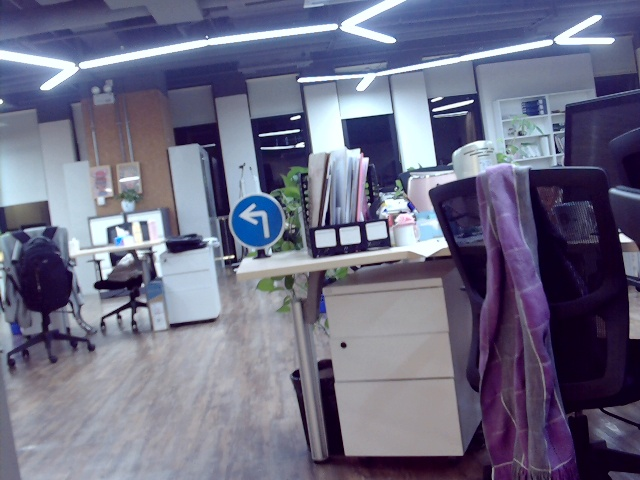turn_left: (241, 202, 269, 238)
